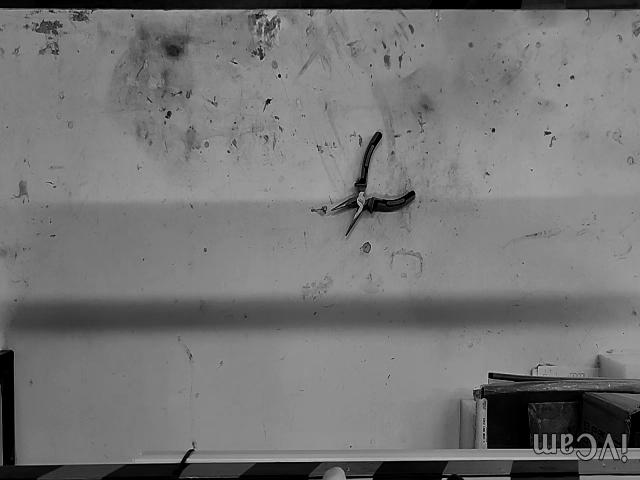Needle-nose pliers: (331, 132, 415, 237)
